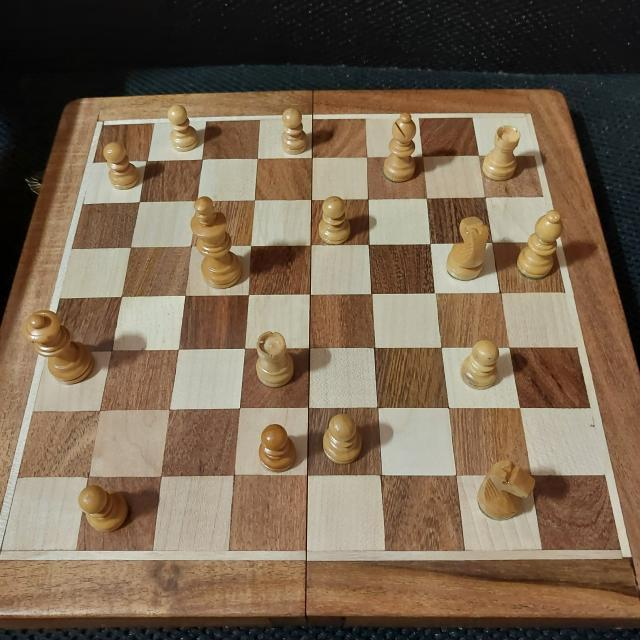white-camel: (516, 202, 568, 280), (385, 106, 423, 186)
white-elephant: (249, 328, 293, 389), (480, 120, 522, 182)
white-horse: (476, 455, 536, 528), (445, 206, 490, 283)
white-king: (182, 191, 249, 295), (73, 485, 131, 532), (317, 414, 363, 466), (458, 342, 504, 388), (162, 104, 196, 150), (276, 108, 309, 154)
white-pawn: (313, 191, 358, 251), (250, 419, 306, 466), (96, 140, 142, 188)
white-queen: (18, 313, 98, 387)
